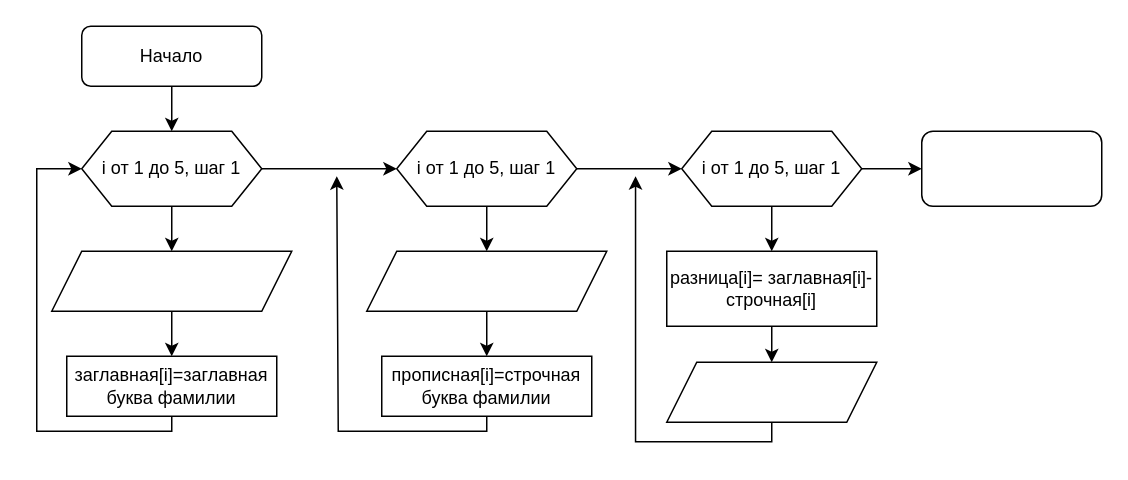
Some shapes in this 1128 by 480 pixel diagram are drawn without their labels. The centre of each missing label's shape, as x and y in pixels:
Ввод заглавной буквы фамилии: the point at 171,280
Ввод строчной буквы фамилии: the point at 486,280
Вывод разницы: the point at 771,391
Конец: the point at 1011,168
